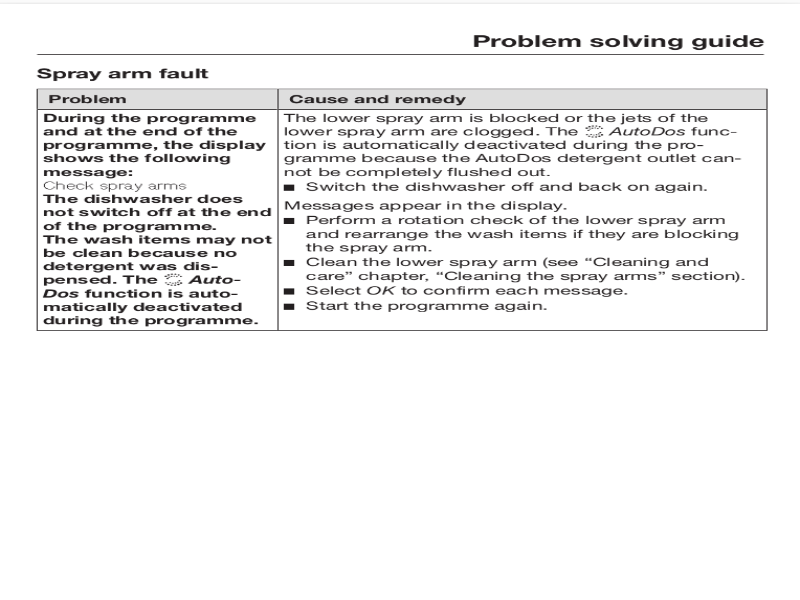border: (28, 81, 787, 346)
cell: (280, 112, 759, 315), (40, 112, 274, 328), (287, 90, 471, 106), (43, 91, 130, 106)
